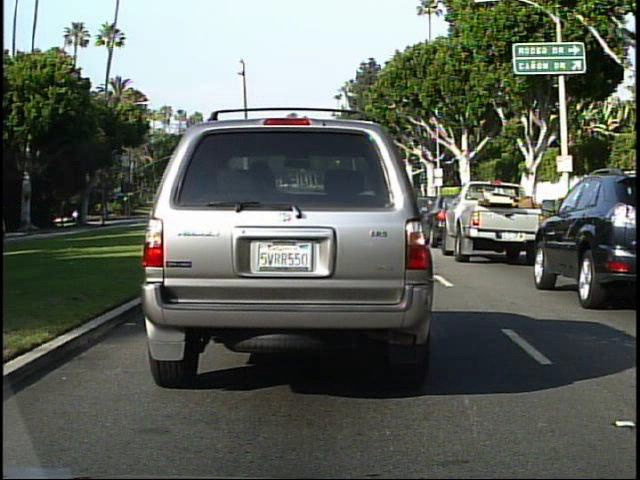person: (71, 206, 82, 226)
